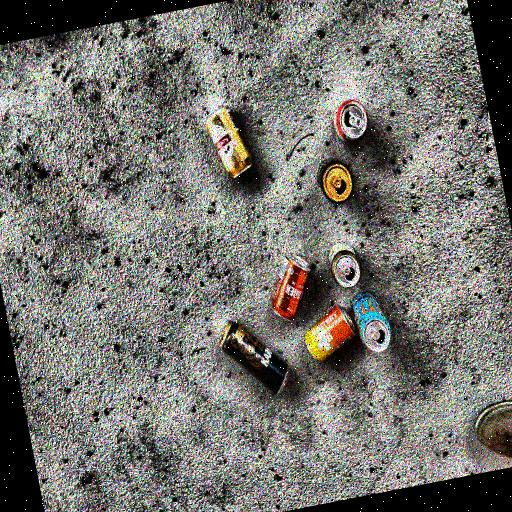A_LeCoq: (178, 84, 260, 200)
coop_larger: (260, 250, 326, 324)
karhu: (188, 312, 298, 428), (298, 144, 364, 210)
sandels: (312, 232, 370, 294)
